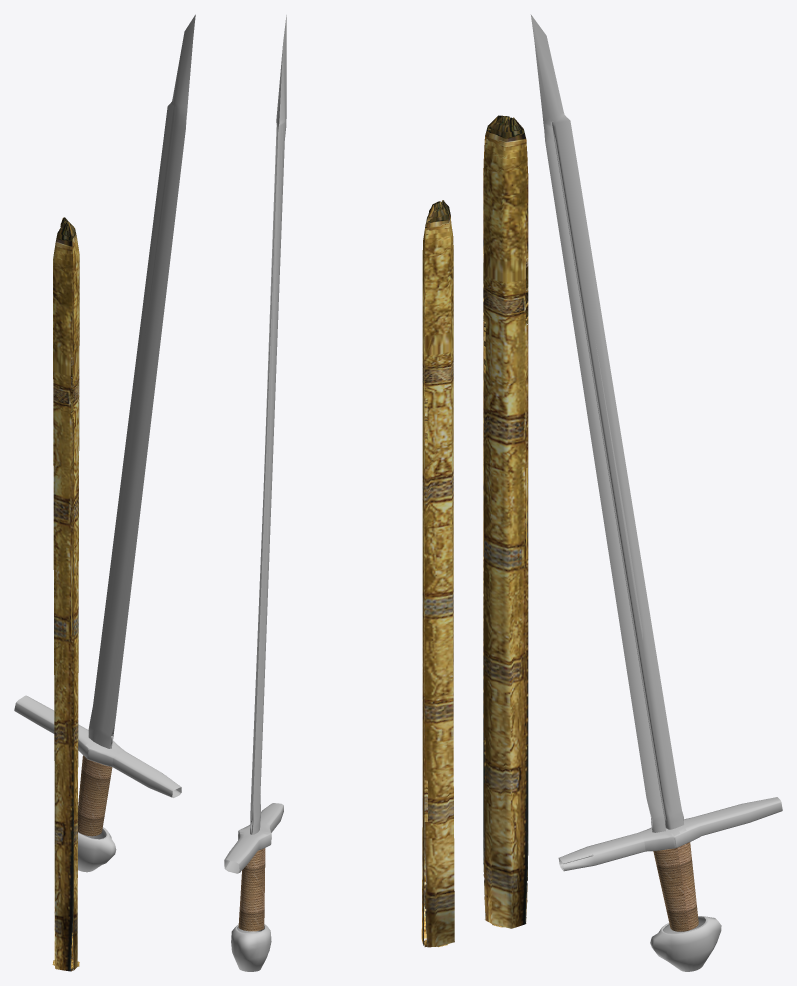
Rendered from sword7.obj.
3 views of the same model, side by side, from view 1: azimuth 30°, elevation 25°; view 2: azimuth 150°, elevation 25°; view 3: azimuth 270°, elevation 25° (orthographic). The views are drawn at different scales.
Size of the model in its own units: 212 by 1177 by 325.
